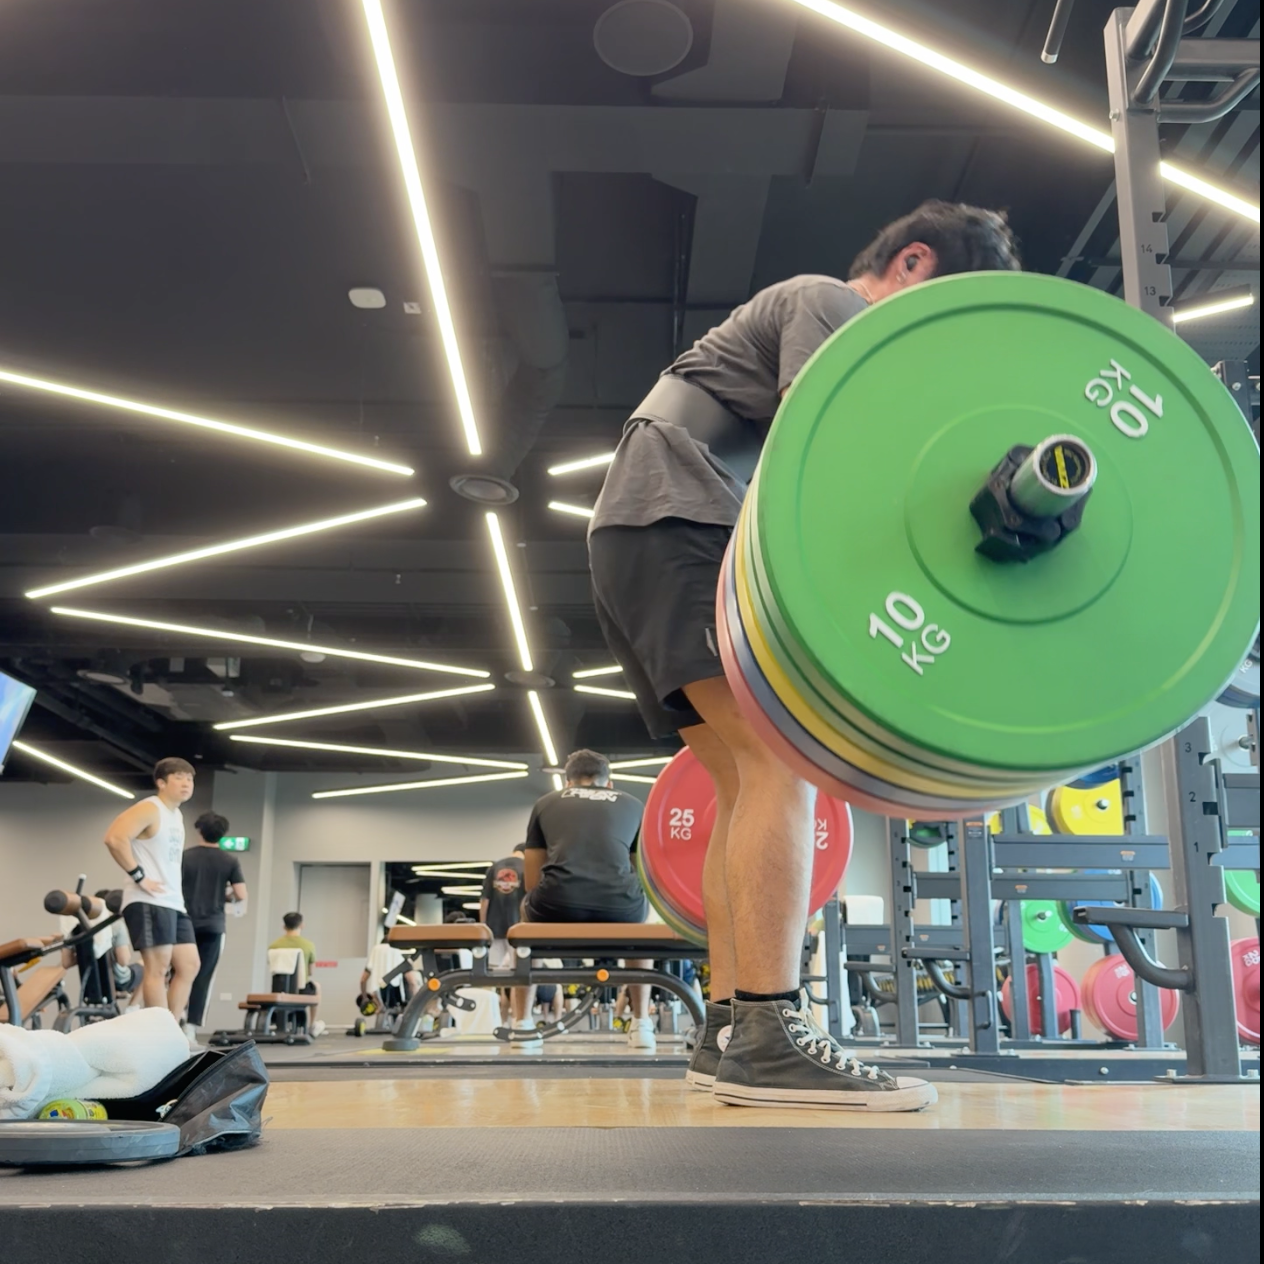barbell: (1020, 440, 1087, 546)
